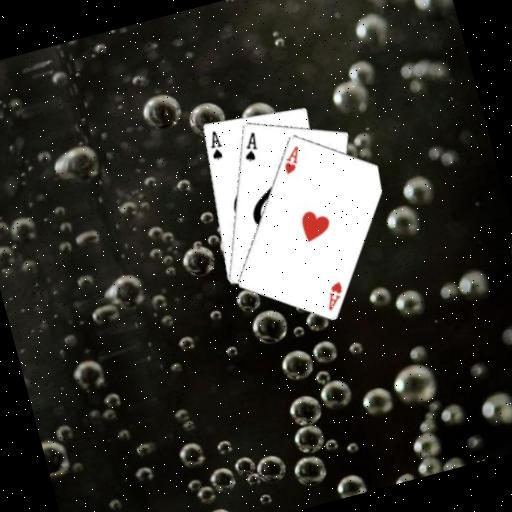AH: (318, 277, 349, 313), (276, 141, 306, 176)
AS: (235, 128, 262, 164), (202, 126, 226, 162)
